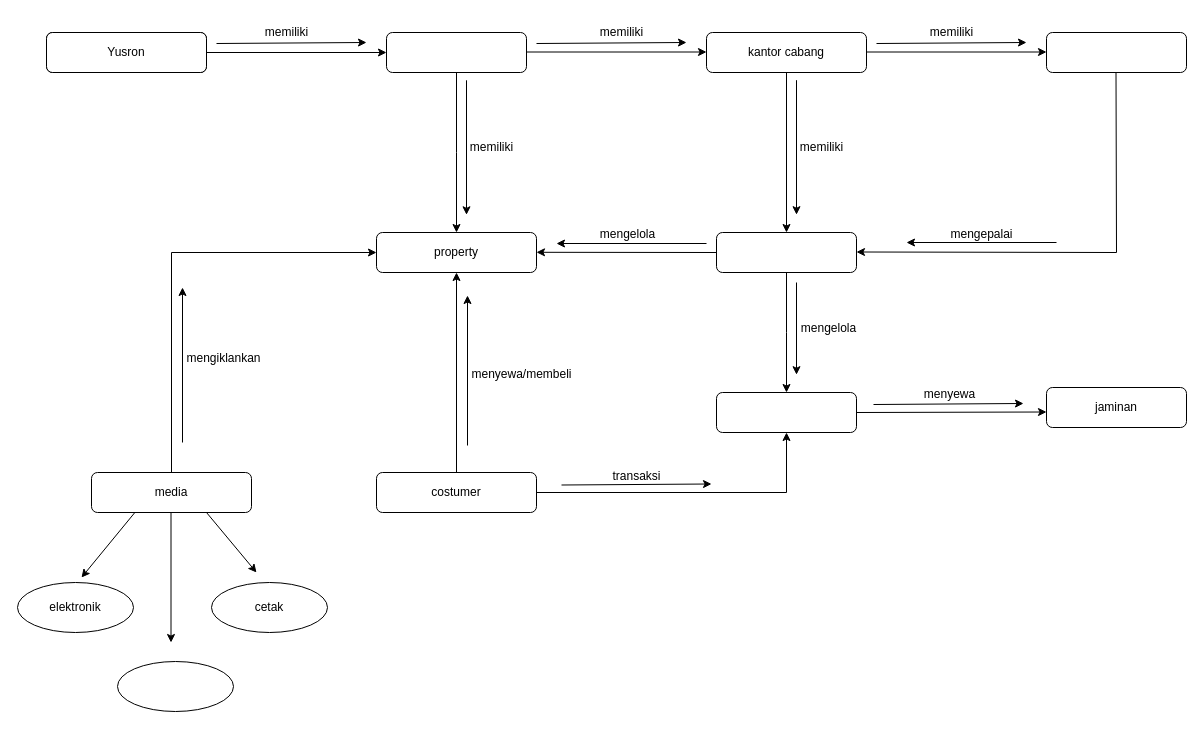
Image size: 1204x729. Some labels were removed from this diagram. Here are the shapes that lost their labels. From the top down, the centre of each, then its label:
At (456,52): "perusahaan properti".
At (1116,52): "manager".
At (786,252): "staff".
At (786,412): "registrasi".
At (175,686): "internet".
